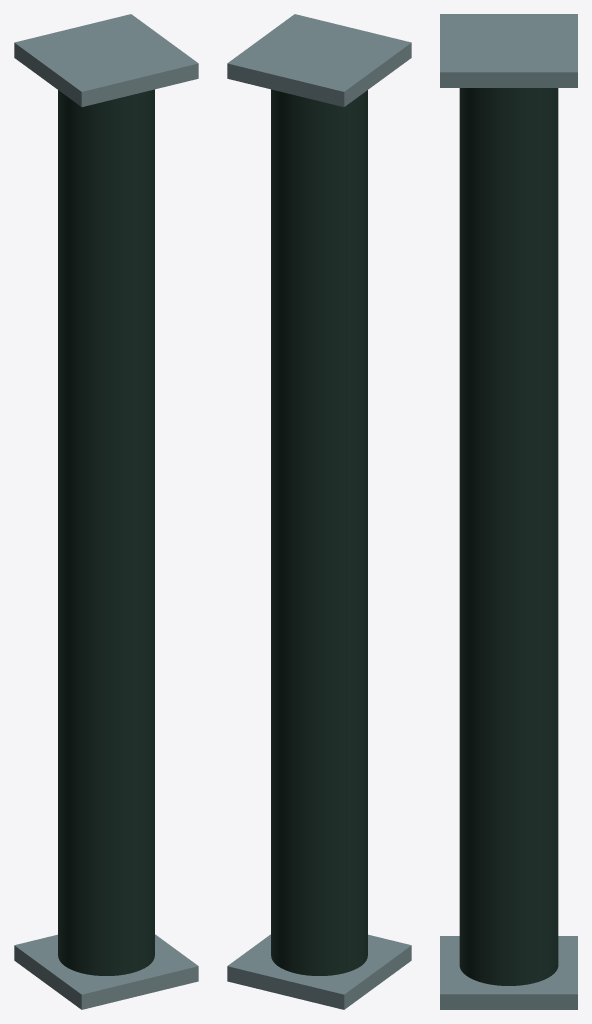
Rendered from colomn.fbx.
3 renders of one model, left to right at view 1: azimuth 30°, elevation 25°; view 2: azimuth 150°, elevation 25°; view 3: azimuth 270°, elevation 25°, orthographic. The views are drawn at different scales.
Visible parts, largest first — view 1: Column, Column_box_top, Column_box_bottom; view 2: Column, Column_box_top, Column_box_bottom; view 3: Column, Column_box_top, Column_box_bottom.
Boxes of the visible parts, x1,y1,x2,y2 form: Column: (58, 89, 154, 975); Column_box_top: (14, 14, 198, 106); Column_box_bottom: (14, 934, 198, 1009); Column: (271, 89, 367, 975); Column_box_top: (227, 14, 411, 106); Column_box_bottom: (227, 934, 411, 1009); Column: (459, 88, 558, 985); Column_box_top: (440, 14, 577, 87); Column_box_bottom: (440, 936, 577, 1009).
Size of the model in its own units: 40 by 300 by 40.
